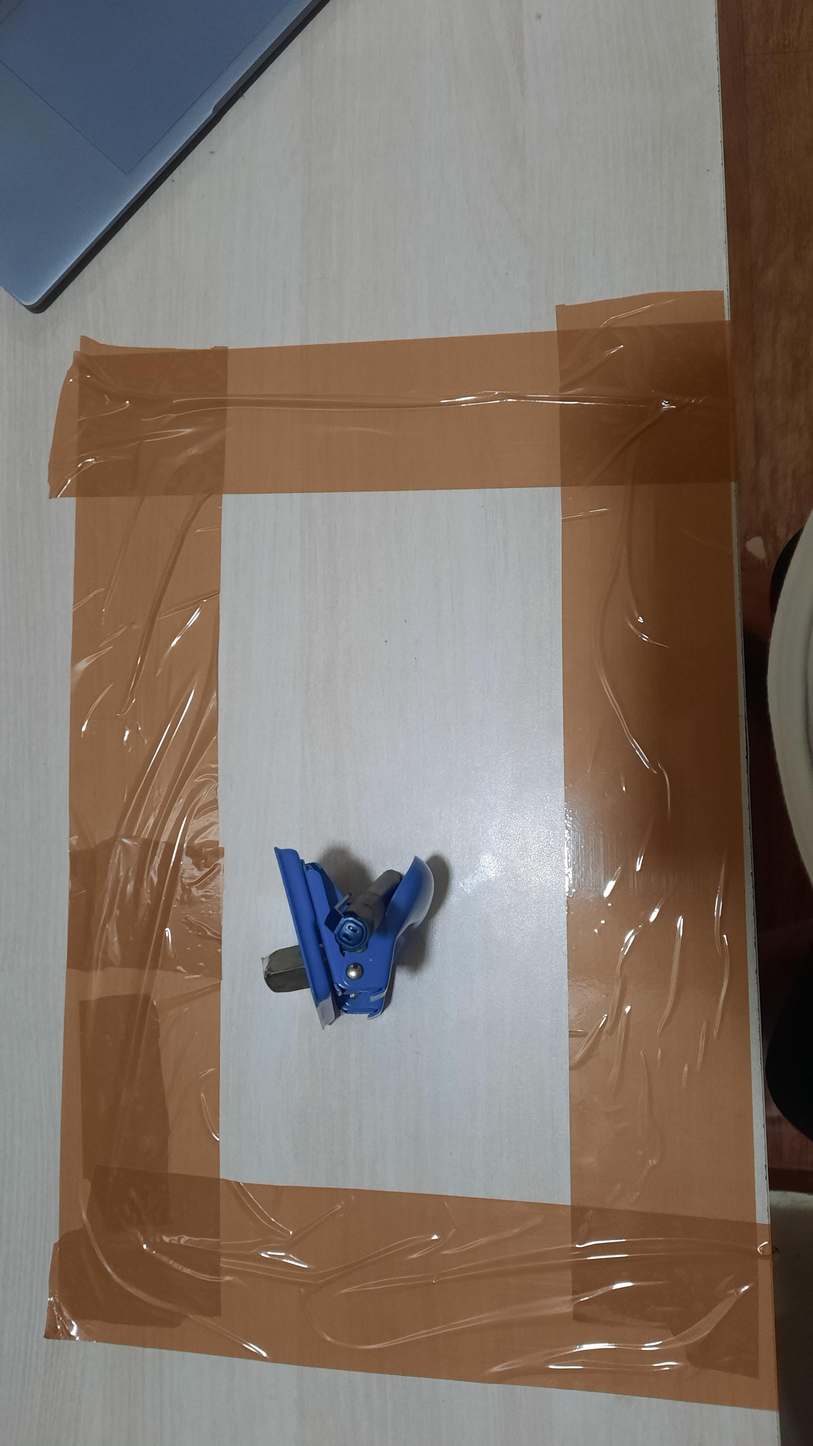Punch: (261, 846, 435, 1030)
